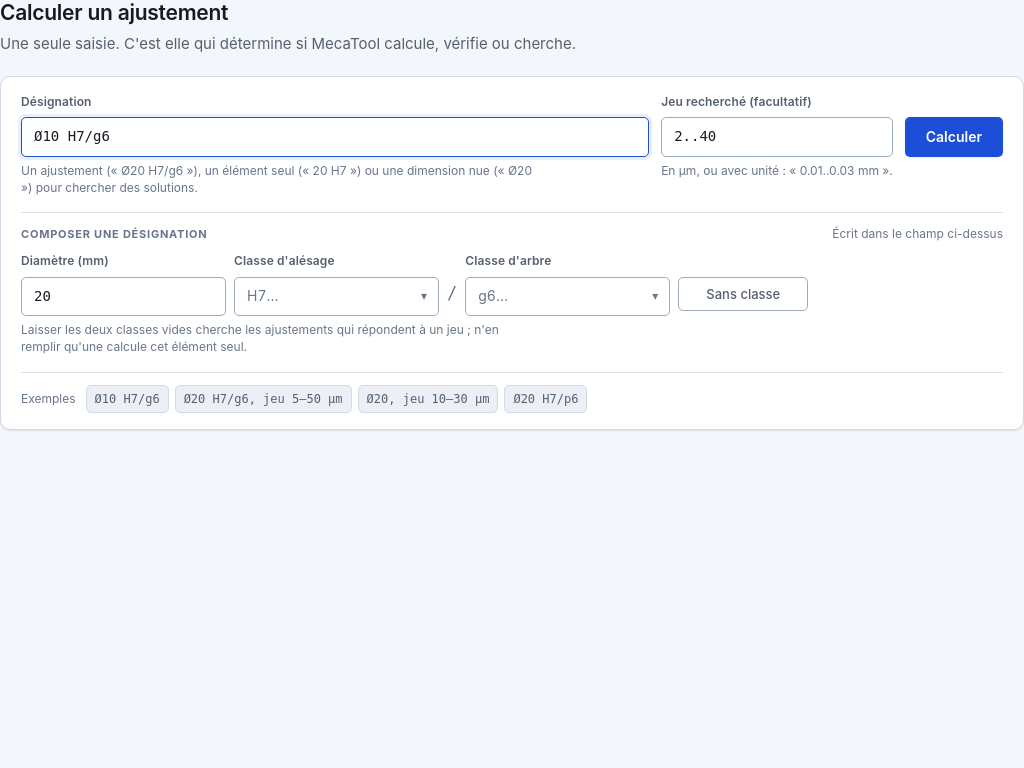
Test case: écran de calcul › rend le diagramme avec son annonce d'échelle
What coordinates should you click on to do the following:
click the 1st button named "Calculer"
I would click on:
 (954, 137)
Its box is [905,117,1003,157].
(page scrolled)
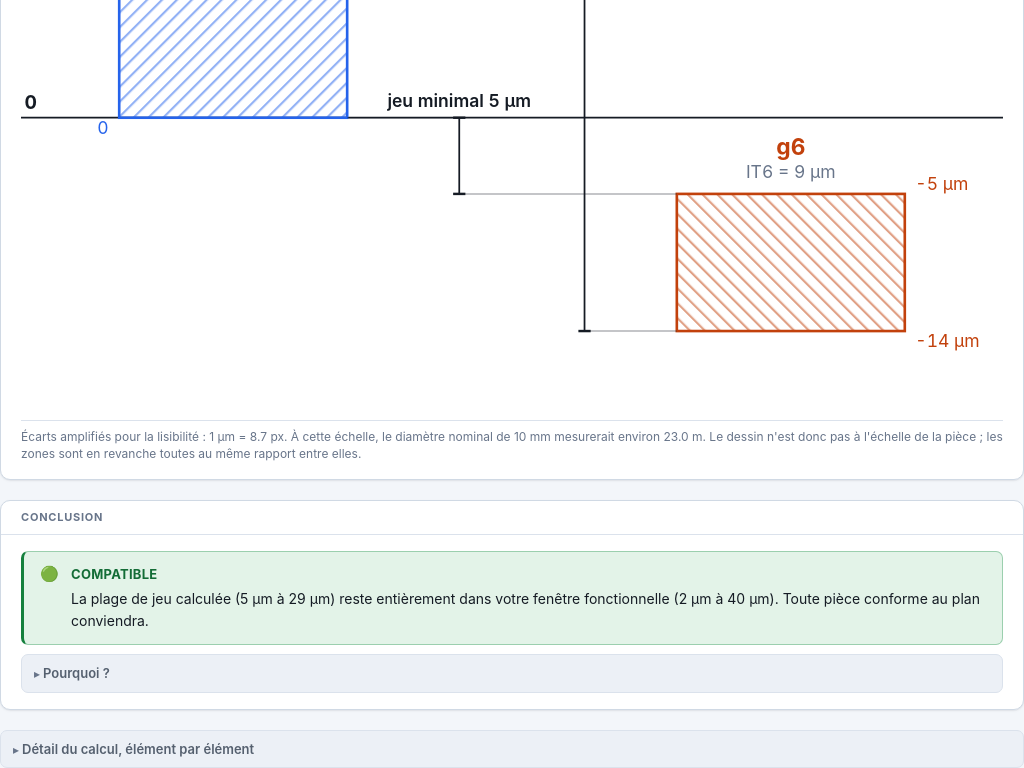
Expected: the 1st text "amplifiés pour la lisibilité" is shown, [21,430,1003,461]
